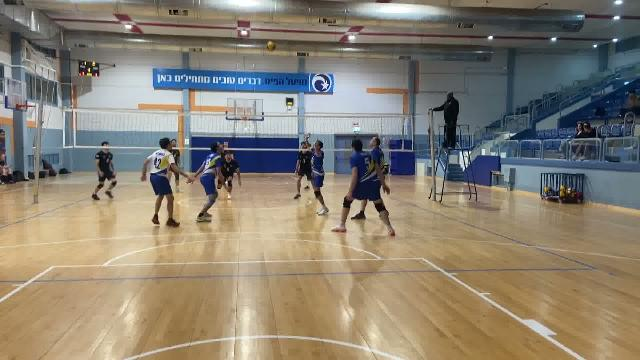ball: (264, 40, 277, 53)
